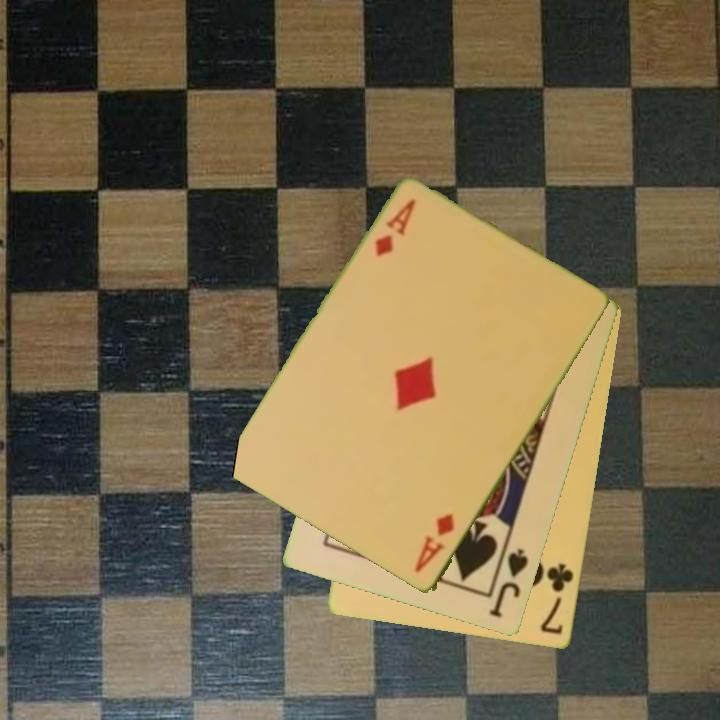7c: (537, 560, 577, 638)
Ad: (411, 510, 458, 576), (371, 196, 419, 260)
Js: (486, 545, 532, 621)
